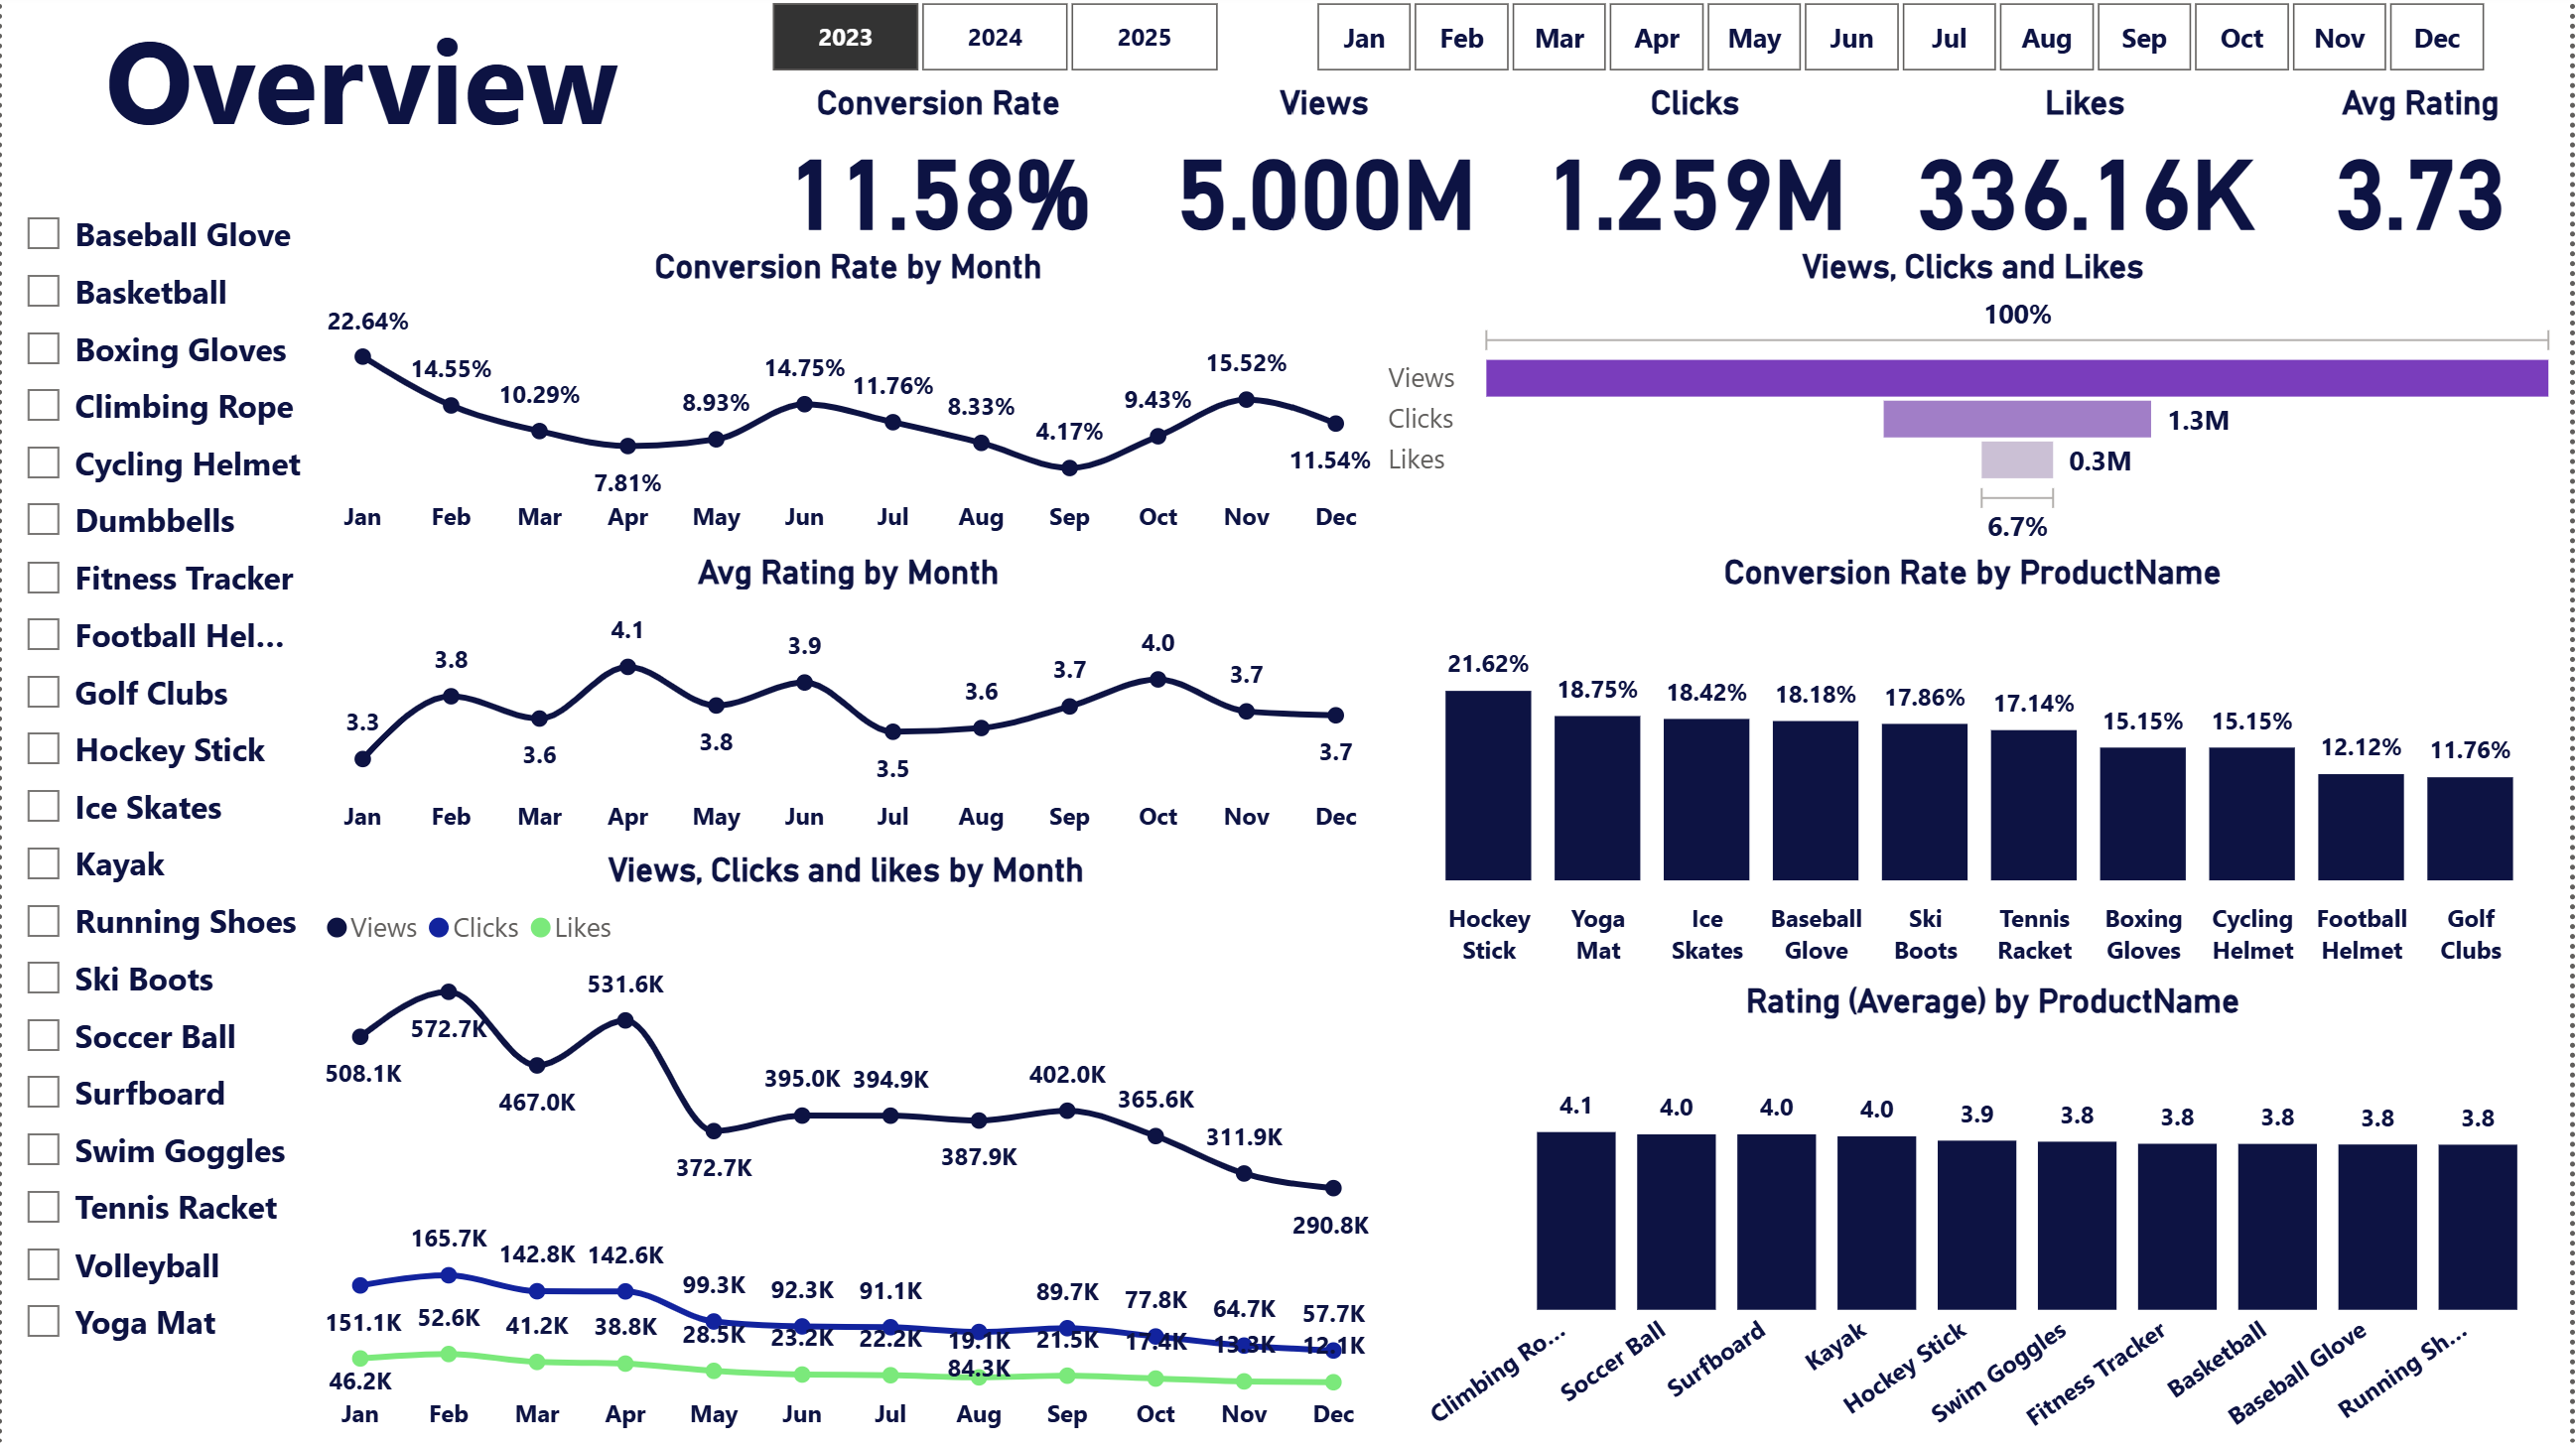

Layout of this report page (visuals, bound fields, positions):
{"tool":"powerbi","page":{"name":"Overview","canvas":[1300,740],"ordinal":0},"visuals":[{"type":"lineChart","title":"Conversion Rate by Month","fields":{"Y":["Calculations.Conversion Rate"],"Category":["Calendar.MonthNameShort"]},"box":[159.3,130.3,538.1,154.4],"z":0},{"type":"lineChart","title":"Views, Clicks and likes by Month","fields":{"Category":["Calendar.MonthNameShort"],"Y":["Calculations.Views","Calculations.Clicks","Calculations.Likes"]},"box":[158.7,436.5,538.1,303.8],"z":1000},{"type":"lineChart","title":"Avg Rating by Month","fields":{"Y":["Calculations.Rating (Average)"],"Category":["Calendar.MonthNameShort"]},"box":[159.3,284.7,538.1,152],"z":2000},{"type":"card","title":"Conversion Rate","fields":{"Values":["Calculations.Conversion Rate"]},"box":[364.3,48.3,219.6,82],"z":3000},{"type":"card","title":"Views","fields":{"Values":["Calculations.Views"]},"box":[584,48.4,169.9,81.8],"z":4000},{"type":"card","title":"Clicks","fields":{"Values":["Calculations.Clicks"]},"box":[753.9,48.4,205.8,81.8],"z":5000},{"type":"card","title":"Likes","fields":{"Values":["Calculations.Likes"]},"box":[959.7,48.4,188.5,81.8],"z":6000},{"type":"slicer","fields":{"Values":["Dim_Products.ProductName"]},"box":[0,104.2,158.7,636.1],"z":7000},{"type":"funnel","fields":{"Y":["Calculations.Views","Calculations.Clicks","Calculations.Likes"]},"box":[696.9,130.2,602.6,155],"z":8000},{"type":"columnChart","fields":{"Y":["Calculations.Conversion Rate"],"Category":["Dim_Products.ProductName"]},"box":[696.9,285.2,602.6,217],"z":9000},{"type":"columnChart","fields":{"Y":["Calculations.Rating (Average)"],"Category":["Dim_Products.ProductName"]},"box":[716.7,502.2,582.8,238.1],"z":10000},{"type":"textbox","box":[0,0,364.3,103.8],"z":11000},{"type":"slicer","fields":{"Values":["Calendar.Year"]},"box":[364.3,0,275.1,48.3],"z":12000},{"type":"slicer","fields":{"Values":["Calendar.MonthNameShort"]},"box":[639.4,0,640.6,48.3],"z":13000},{"type":"card","title":"Avg Rating","fields":{"Values":["Calculations.Rating (Average)"]},"box":[1148.2,48.4,151.3,81.8],"z":14000}]}

Visuals, with their boxes in screenshot pixels (x1, y1, x2, y2), scaled from the page's 1300x740 canvas onto the 2576x1446 screenshot:
"Conversion Rate by Month" lineChart: (316, 255, 1382, 557)
"Views, Clicks and likes by Month" lineChart: (315, 853, 1381, 1445)
"Avg Rating by Month" lineChart: (316, 557, 1382, 854)
"Conversion Rate" card: (722, 94, 1157, 255)
"Views" card: (1157, 94, 1494, 254)
"Clicks" card: (1494, 94, 1902, 254)
"Likes" card: (1902, 94, 2275, 254)
slicer - Dim_Products.ProductName: (0, 203, 315, 1445)
funnel - Calculations.Views x Calculations.Clicks: (1381, 254, 2575, 558)
columnChart - Calculations.Conversion Rate x Dim_Products.ProductName: (1381, 558, 2575, 982)
columnChart - Calculations.Rating (Average) x Dim_Products.ProductName: (1421, 982, 2575, 1445)
textbox: (0, 0, 722, 202)
slicer - Calendar.Year: (722, 0, 1267, 94)
slicer - Calendar.MonthNameShort: (1267, 0, 2536, 94)
"Avg Rating" card: (2275, 94, 2575, 254)
